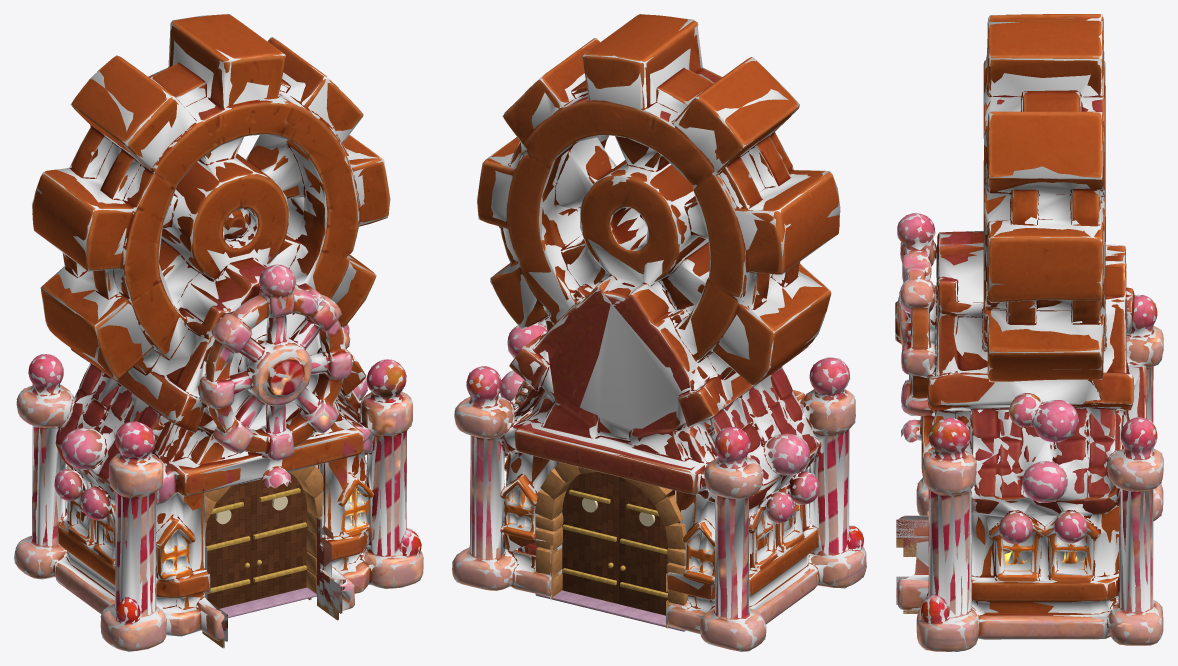
Rendered from GIN_BLD_GingerbreadMill.fbx.
3 views of the same model, side by side, from view 1: azimuth 30°, elevation 25°; view 2: azimuth 150°, elevation 25°; view 3: azimuth 270°, elevation 25° (orthographic). The views are drawn at different scales.
Visible parts, largest first — view 1: GIN_BLD_GingerbreadMill, COL_GIN_BLD_GingerbreadMill_Shell, GIN_BLD_GingerbreadMill_Door_FR, GIN_BLD_GingerbreadMill_Door_FL, GIN_BLD_GingerbreadMill_Frame; view 2: GIN_BLD_GingerbreadMill, COL_GIN_BLD_GingerbreadMill_Shell, GIN_BLD_GingerbreadMill_Door_BL, GIN_BLD_GingerbreadMill_Frame, GIN_BLD_GingerbreadMill_Door_BR; view 3: GIN_BLD_GingerbreadMill, COL_GIN_BLD_GingerbreadMill_Shell.
Part boxes in pixels (<box>): GIN_BLD_GingerbreadMill: <box>14,14,422,651</box>; COL_GIN_BLD_GingerbreadMill_Shell: <box>14,14,423,651</box>; GIN_BLD_GingerbreadMill_Door_FR: <box>244,472,307,600</box>; GIN_BLD_GingerbreadMill_Door_FL: <box>205,481,261,608</box>; GIN_BLD_GingerbreadMill_Frame: <box>205,465,334,617</box>; GIN_BLD_GingerbreadMill: <box>452,14,866,651</box>; COL_GIN_BLD_GingerbreadMill_Shell: <box>452,14,866,651</box>; GIN_BLD_GingerbreadMill_Door_BL: <box>562,471,625,603</box>; GIN_BLD_GingerbreadMill_Frame: <box>535,462,688,631</box>; GIN_BLD_GingerbreadMill_Door_BR: <box>608,477,668,615</box>; GIN_BLD_GingerbreadMill: <box>895,14,1163,651</box>; COL_GIN_BLD_GingerbreadMill_Shell: <box>895,15,1162,651</box>.
Size of the model in its own units: 18.2 by 30.54 by 13.28.
